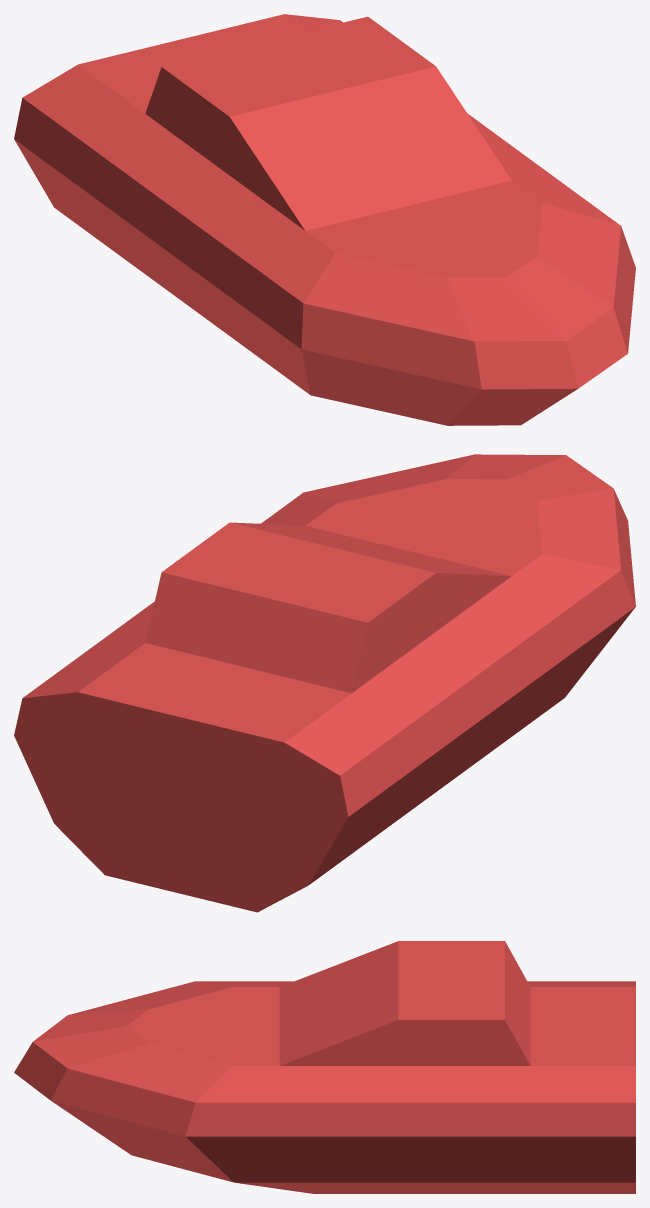
The model's file is watercraftpack_019.glb.
The picture shows the model from 3 angles, top to bottom: view 1: azimuth 30°, elevation 25°; view 2: azimuth 150°, elevation 25°; view 3: azimuth 270°, elevation 25°; orthographic projection. The views are drawn at different scales.
Parts seen in each view (by area): view 1: Mesh1 Group1 Model; view 2: Mesh1 Group1 Model; view 3: Mesh1 Group1 Model.
Boxes of the visible parts, x1,y1,x2,y2 form: Mesh1 Group1 Model: (14, 14, 635, 425); Mesh1 Group1 Model: (14, 454, 635, 912); Mesh1 Group1 Model: (14, 941, 635, 1193).
Size of the model in its own units: 1.78 by 1.2 by 3.67.
